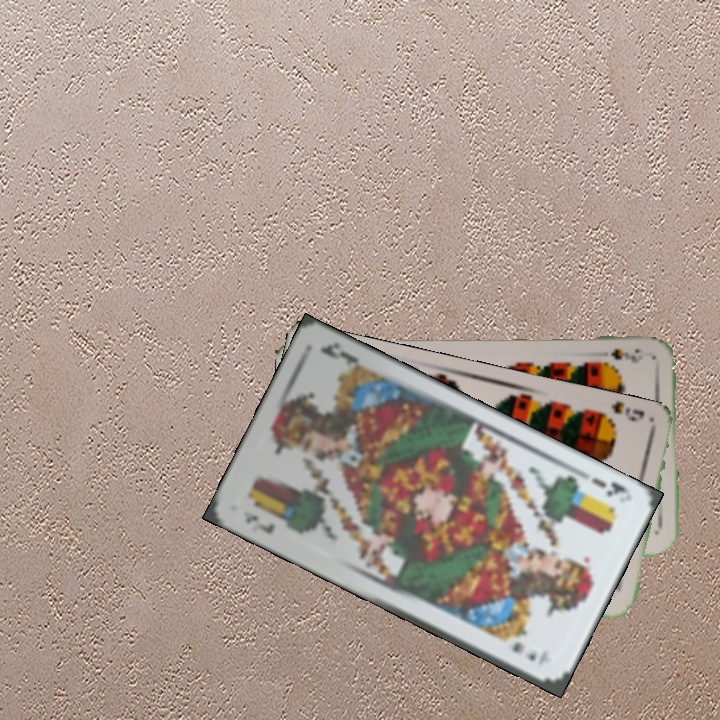EK: (587, 473, 634, 500), (239, 507, 278, 536)
S9: (592, 399, 647, 427), (607, 344, 645, 365)
